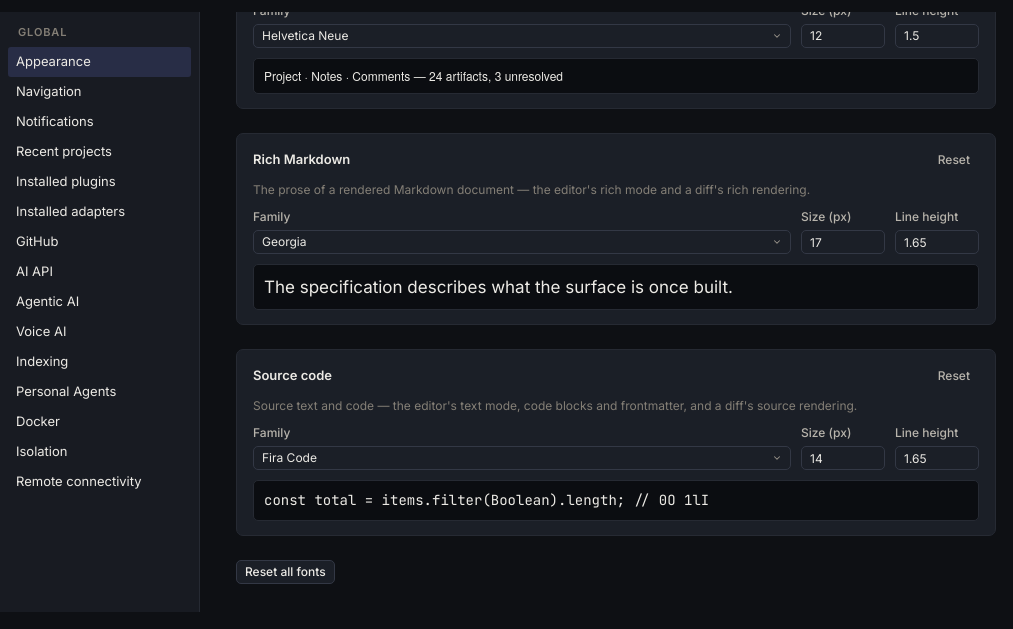
Appearance typography (GLS-FR-17, GLS-FR-18 – GLS-FR-21) › GLS-FR-23, GLS-FR-20: resetting all roles returns all nine values
(page scrolled)
Click the button "Reset all fonts": (285, 572) left=236, top=560, right=335, bottom=584
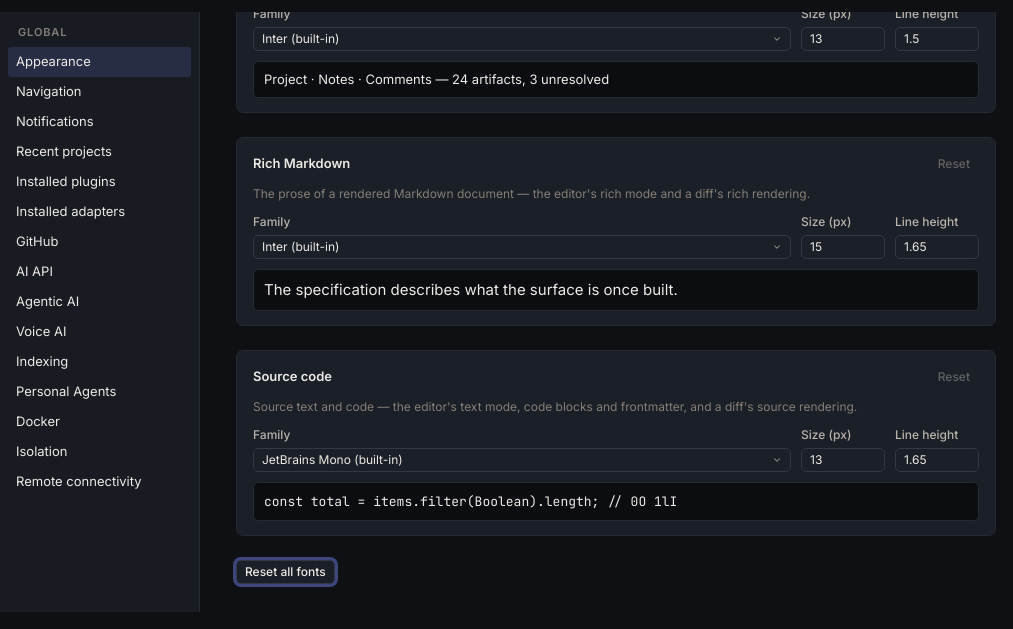
Now the number field named "UI font size" holds "13", box left=801, top=27, right=885, bottom=51
